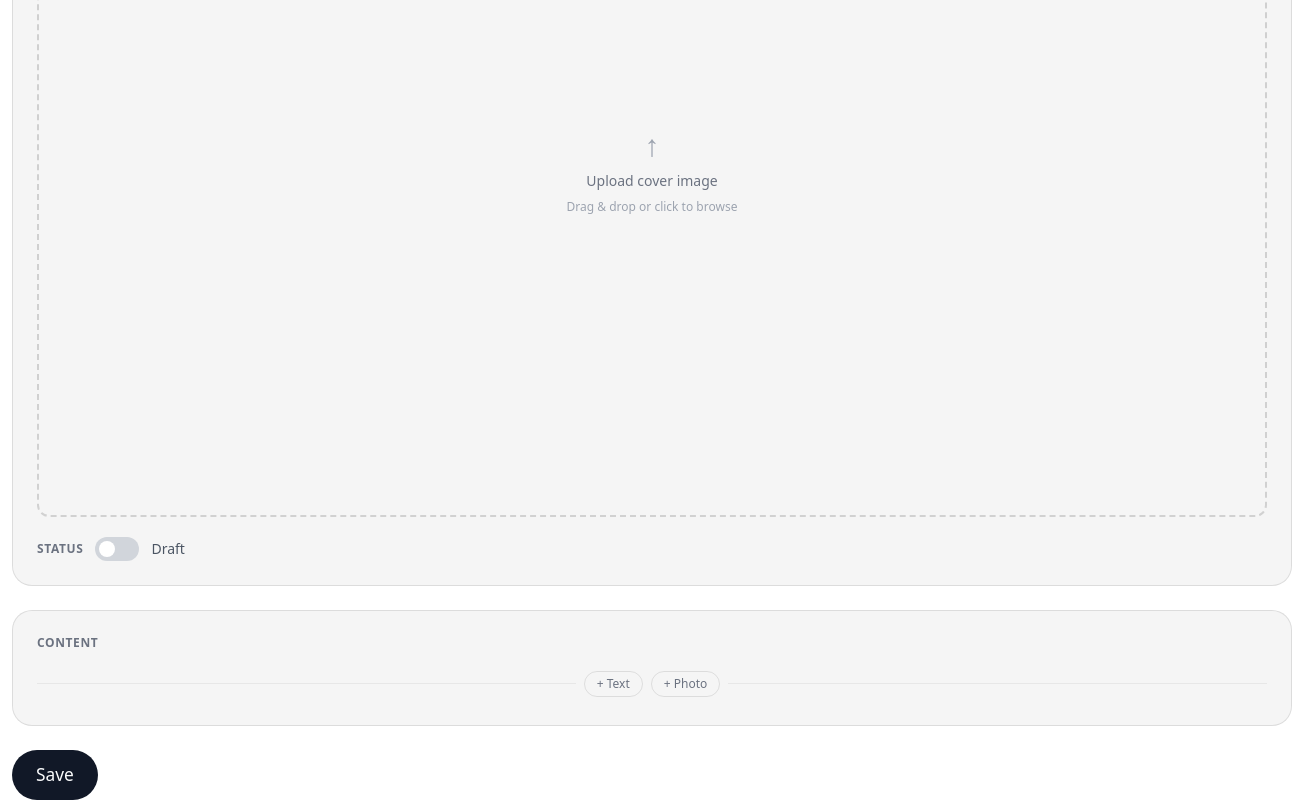
Test: PostEditorClient - save › shows a visible error and no success confirmation when save fails
(page scrolled)
Click the button "Save" at (55, 775), box left=12, top=750, right=98, bottom=799
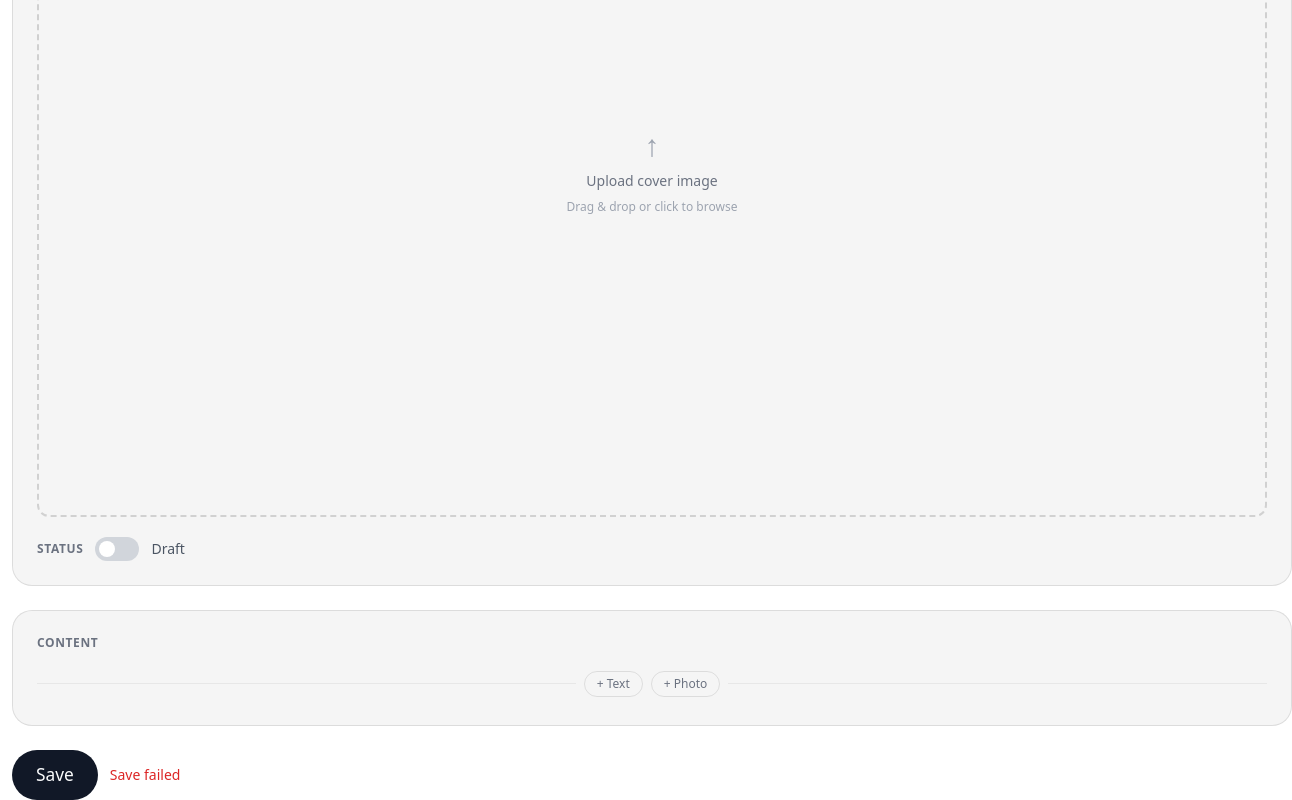
Expected: the message reads "Save failed", left=110, top=765, right=180, bottom=784
